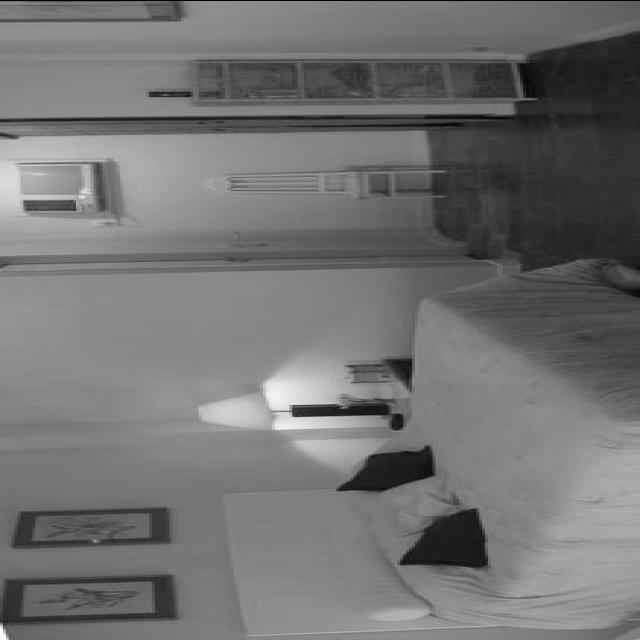chair: (189, 165, 462, 199)
